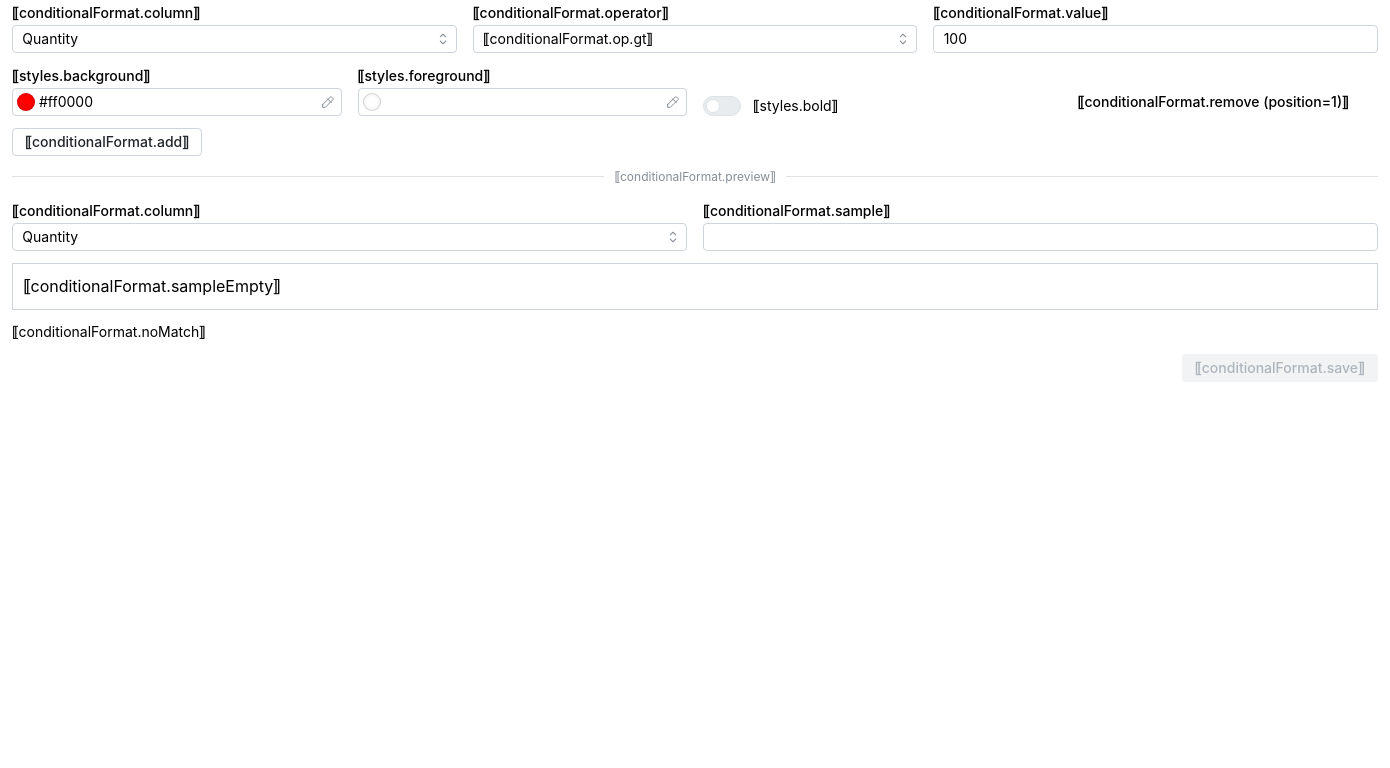
it: ConditionalFormatPanel › неповне правило блокує збереження й пояснює чому
Expected: the field labelled "⟦conditionalFormat.value⟧" is shown, 933,25 -> 1378,53
Click the button "⟦conditionalFormat.add⟧": (107, 142) 12,128 -> 202,156
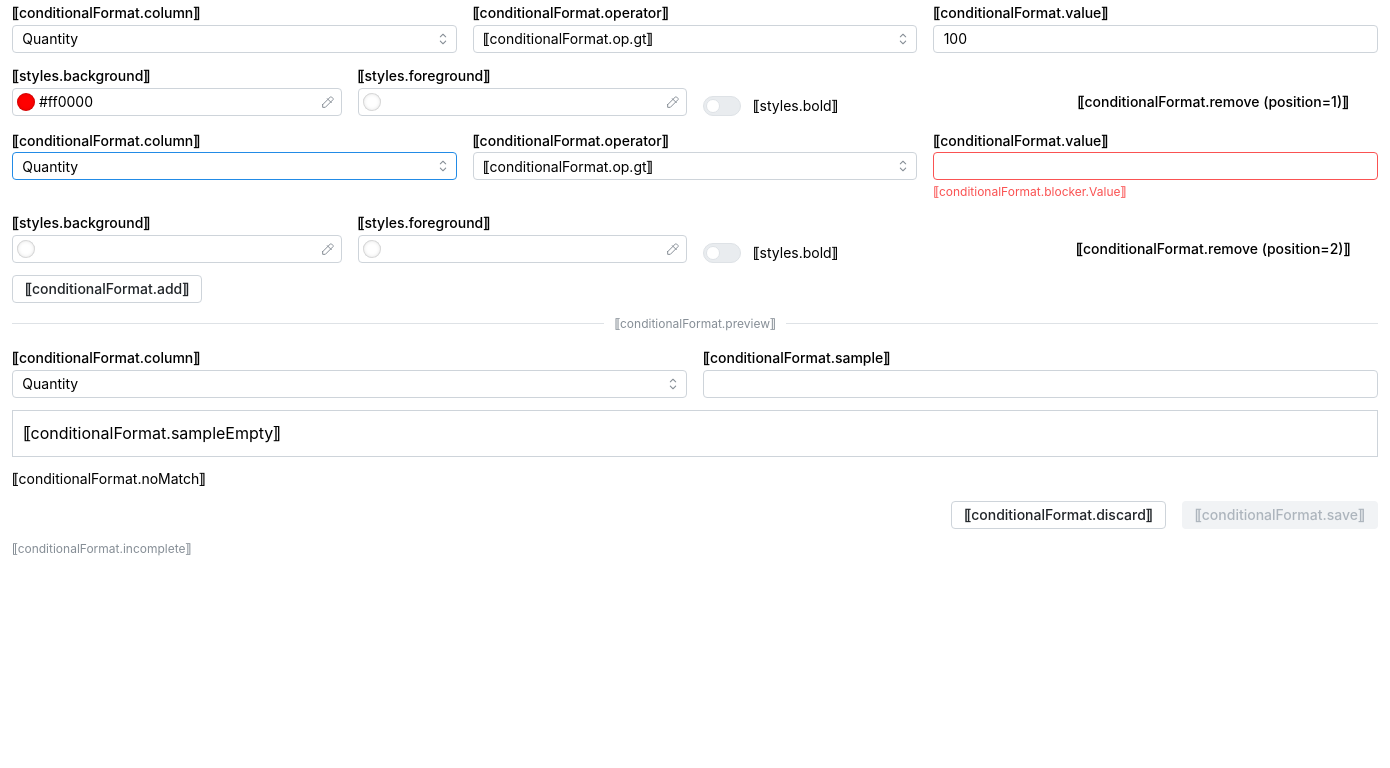
Expected: the button "⟦conditionalFormat.save⟧" is disabled, 1182,501 -> 1378,529
Result: the text "⟦conditionalFormat.incomplete⟧" is shown at 12,541 -> 191,556
